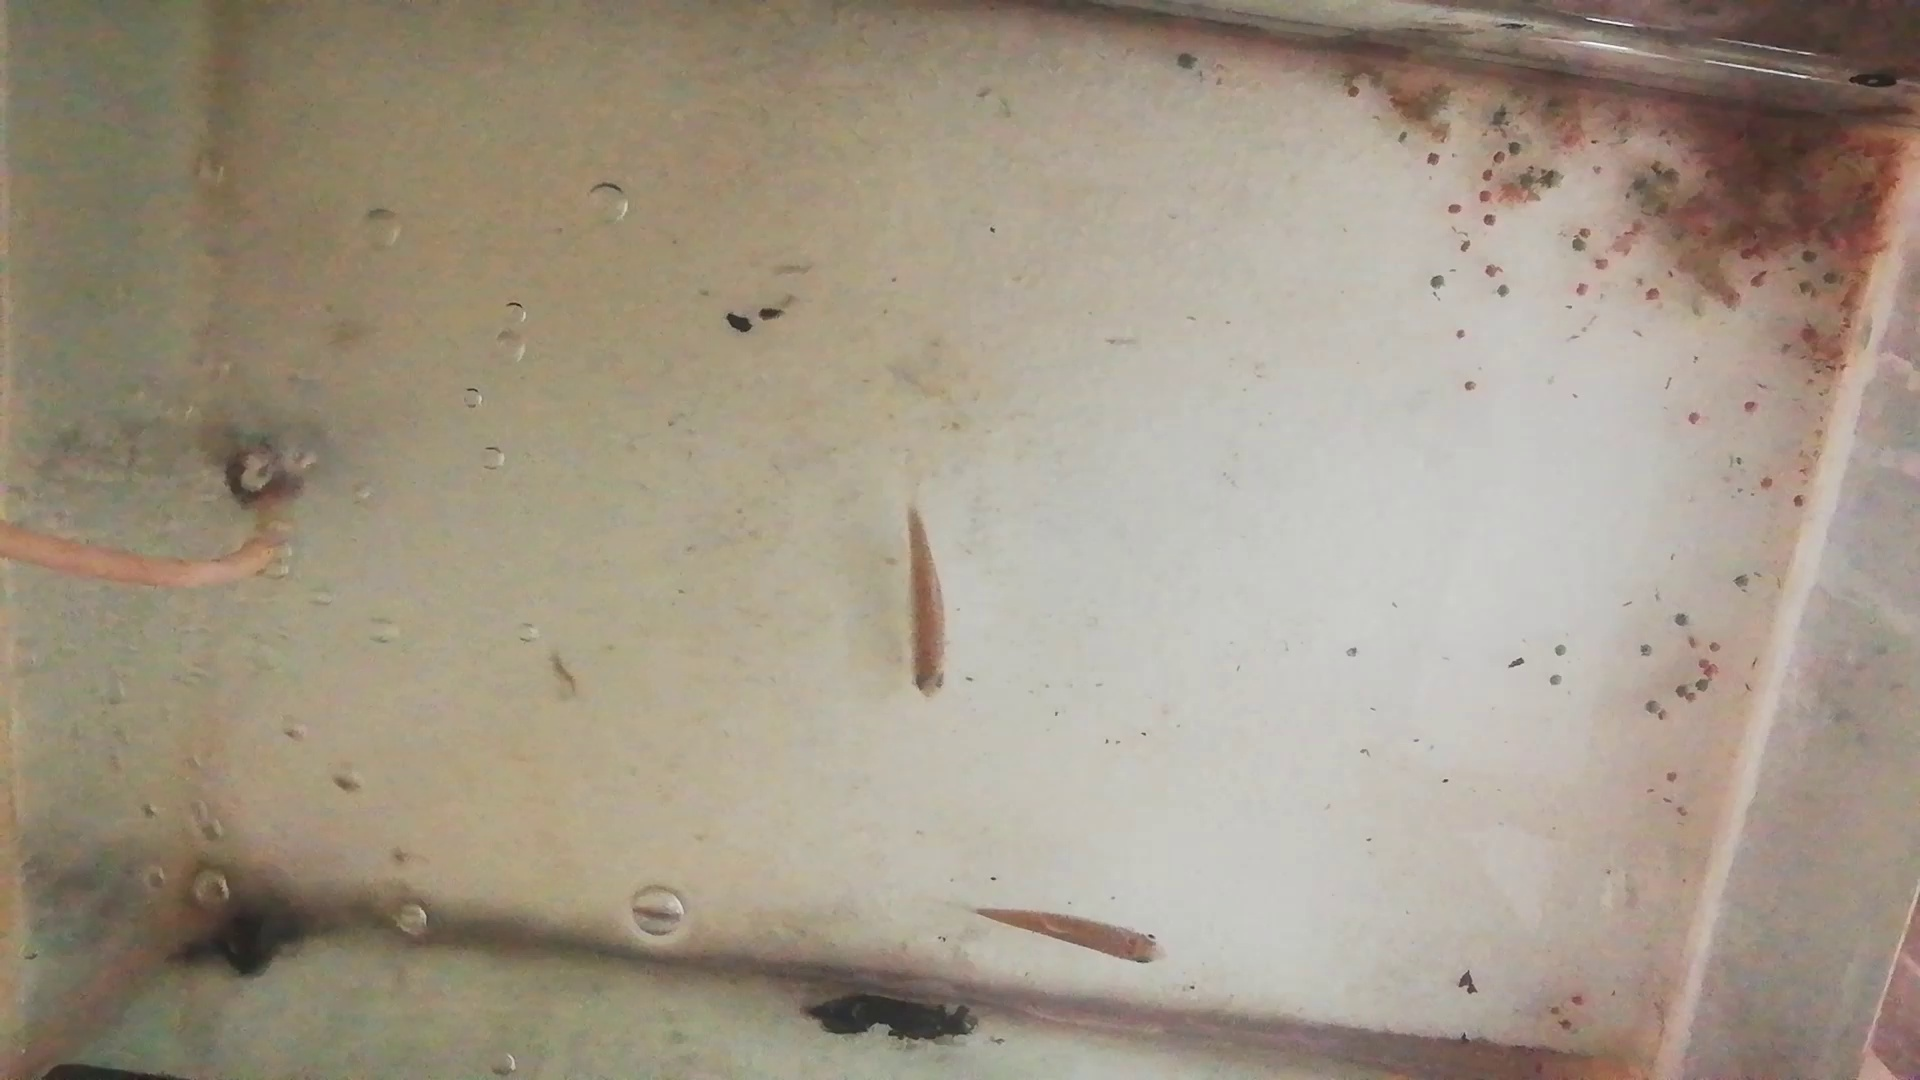fish: (978, 903, 1168, 968), (902, 510, 951, 702)
